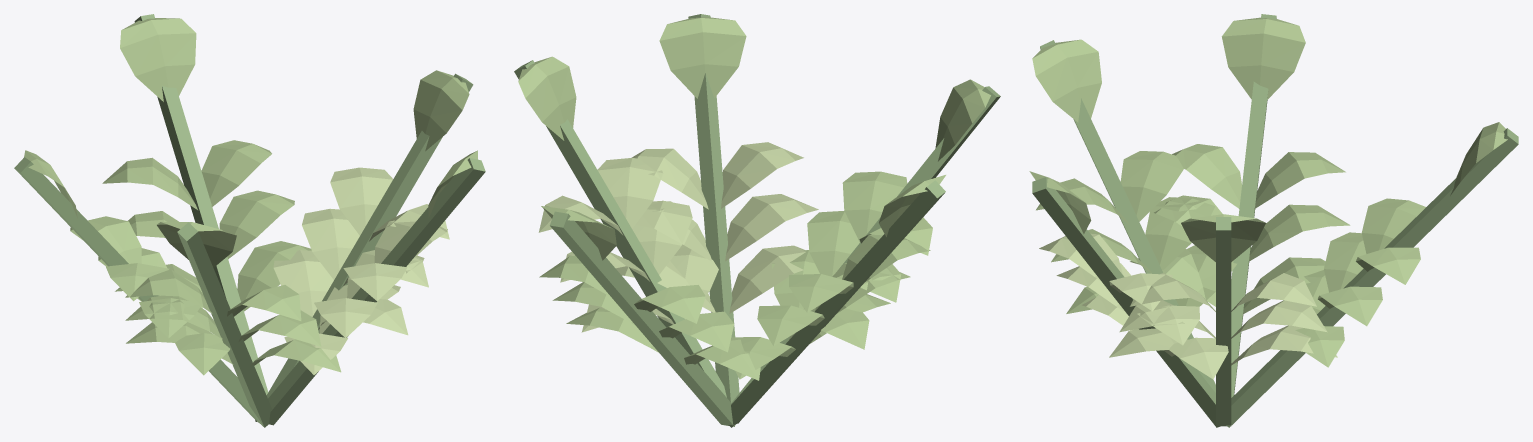
Rendered from crafted-crop-carrot-1.glb.
3 renders of one model, left to right at view 1: azimuth 30°, elevation 25°; view 2: azimuth 150°, elevation 25°; view 3: azimuth 270°, elevation 25°, orthographic. The views are drawn at different scales.
Parts seen in each view (by area): view 1: frond-tip-2, frond-tip, frond-stem-1-3, carrot-leaflet-17, carrot-leaflet-4, carrot-leaflet-15, carrot-leaflet-2, frond-stem-1-4, frond-stem-0-2, frond-stem-0-1, carrot-leaflet, carrot-leaflet-13 (+30 smaller); view 2: frond-tip-3, frond-stem-0-3, frond-stem-0-2, frond-tip, frond-stem-0, carrot-leaflet-21, carrot-leaflet-10, frond-stem-0-4, carrot-leaflet-5, carrot-leaflet-23, frond-stem-1-2, carrot-leaflet-19 (+30 smaller); view 3: frond-tip-4, frond-tip-1, frond-stem-1-2, carrot-leaflet-11, frond-stem-0-2, frond-stem-1-3, carrot-leaflet-28, carrot-leaflet-27, carrot-leaflet-9, frond-stem-0-4, carrot-leaflet-29, carrot-leaflet-16 (+32 smaller).
Boxes of the visible parts, left/top/right/bottom form: frond-tip-2: left=120, top=18, right=196, bottom=101; frond-tip: left=413, top=70, right=469, bottom=151; frond-stem-1-3: left=384, top=158, right=485, bottom=266; carrot-leaflet-17: left=201, top=140, right=271, bottom=206; carrot-leaflet-4: left=330, top=167, right=393, bottom=235; carrot-leaflet-15: left=219, top=190, right=294, bottom=259; carrot-leaflet-2: left=302, top=208, right=359, bottom=279; frond-stem-1-4: left=14, top=157, right=127, bottom=266; frond-stem-0-2: left=183, top=174, right=268, bottom=421; frond-stem-0-1: left=208, top=306, right=271, bottom=427; carrot-leaflet: left=273, top=250, right=333, bottom=316; carrot-leaflet-13: left=237, top=241, right=311, bottom=311; frond-tip-3: left=659, top=17, right=746, bottom=98; frond-stem-0-3: left=701, top=175, right=739, bottom=402; frond-stem-0-2: left=618, top=294, right=735, bottom=426; frond-tip: left=518, top=56, right=576, bottom=140; frond-stem-0: left=599, top=201, right=726, bottom=424; carrot-leaflet-21: left=725, top=194, right=818, bottom=261; carrot-leaflet-10: left=842, top=171, right=907, bottom=242; frond-stem-0-4: left=729, top=279, right=862, bottom=427; carrot-leaflet-5: left=597, top=157, right=662, bottom=228; carrot-leaflet-23: left=721, top=142, right=803, bottom=208; frond-stem-1-2: left=549, top=211, right=636, bottom=307; carrot-leaflet-19: left=729, top=245, right=805, bottom=313; frond-tip-4: left=1221, top=17, right=1305, bottom=99; frond-tip-1: left=1032, top=39, right=1101, bottom=122; frond-stem-1-2: left=1391, top=128, right=1518, bottom=247; carrot-leaflet-11: left=1120, top=151, right=1183, bottom=221; frond-stem-0-2: left=1226, top=242, right=1391, bottom=427; frond-stem-1-3: left=1032, top=177, right=1119, bottom=286; carrot-leaflet-28: left=1172, top=144, right=1241, bottom=208; carrot-leaflet-27: left=1248, top=204, right=1350, bottom=261; carrot-leaflet-9: left=1145, top=197, right=1215, bottom=269; frond-stem-0-4: left=1231, top=175, right=1258, bottom=397; carrot-leaflet-29: left=1254, top=152, right=1345, bottom=208; carrot-leaflet-16: left=1361, top=198, right=1425, bottom=253.
Bounding box in the file's own units: 0.2942 × 0.1979 × 0.2864.
